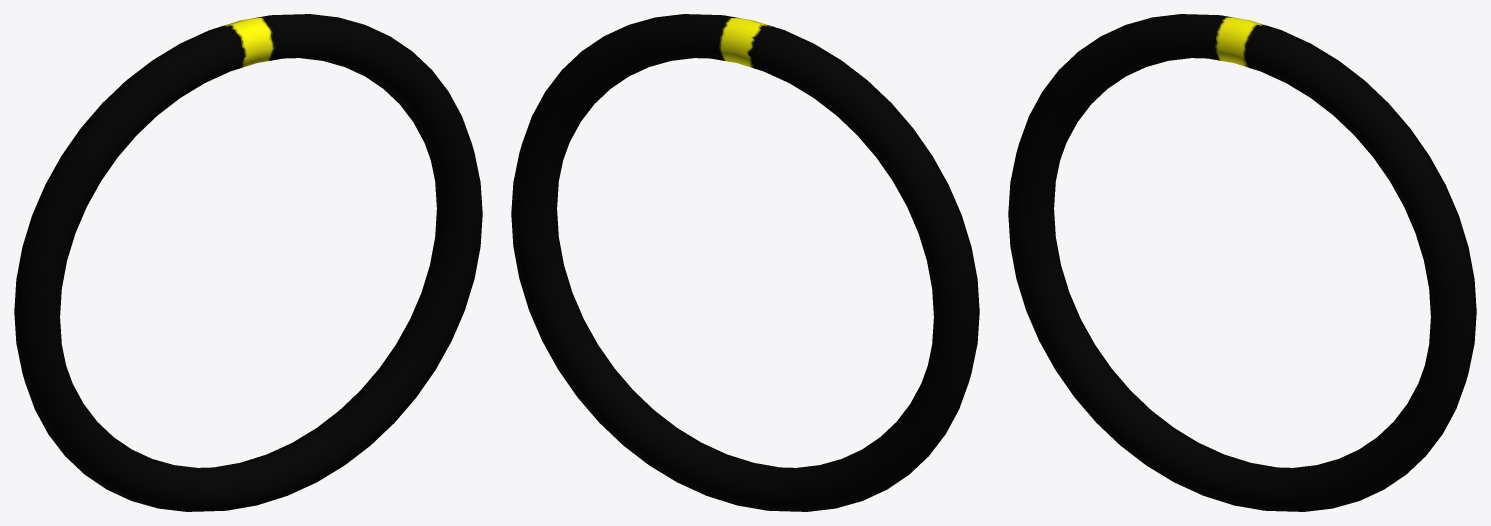
The model's file is steering.glb.
3 renders of one model, left to right at view 1: azimuth 30°, elevation 25°; view 2: azimuth 150°, elevation 25°; view 3: azimuth 330°, elevation 25°, orthographic.
Parts seen in each view (by area): view 1: steering; view 2: steering; view 3: steering.
Part boxes in pixels (x1,y1,x2,y2): steering: (14, 14, 482, 511); steering: (511, 14, 979, 511); steering: (1008, 14, 1476, 511).
Bounding box in the file's own units: 0.3304 × 0.3304 × 0.0292.
1 material, 1 textured.
